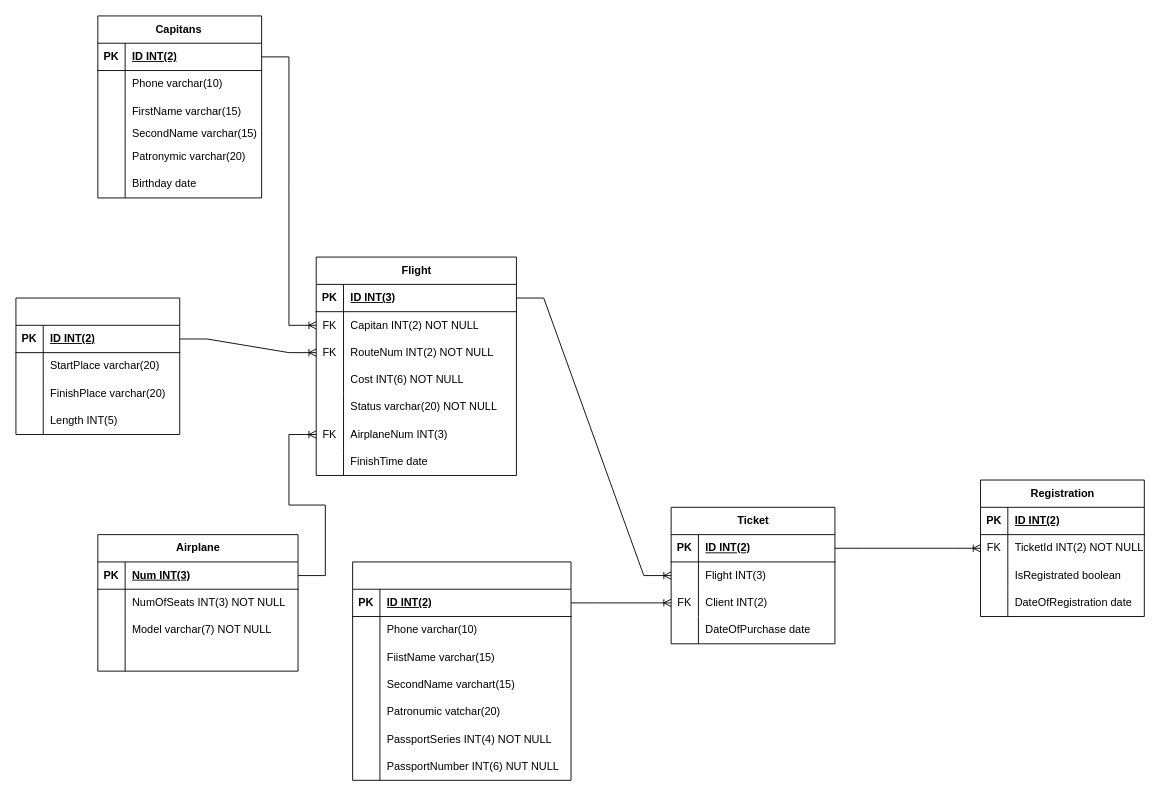
Image size: 1160x796. Some labels were removed from this diagram. The shapes that lost their labels are listed below. From the top down, each one's box as (x1, y1, x2, y2) in pixels, then its label:
(15, 297, 180, 435): Route
(352, 561, 571, 780): Clients
